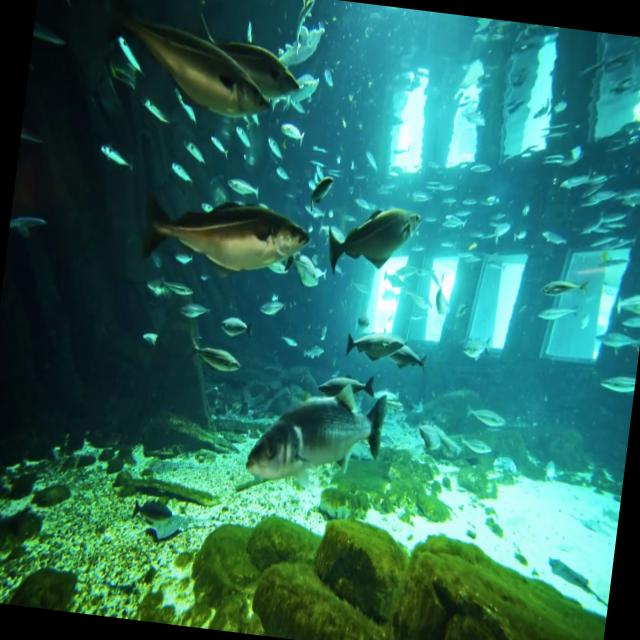fish: (88, 0, 280, 124), (140, 186, 310, 293), (244, 378, 387, 491), (184, 4, 308, 107), (323, 200, 420, 286), (358, 320, 434, 374), (182, 332, 244, 378), (314, 369, 378, 404), (342, 331, 404, 365)
